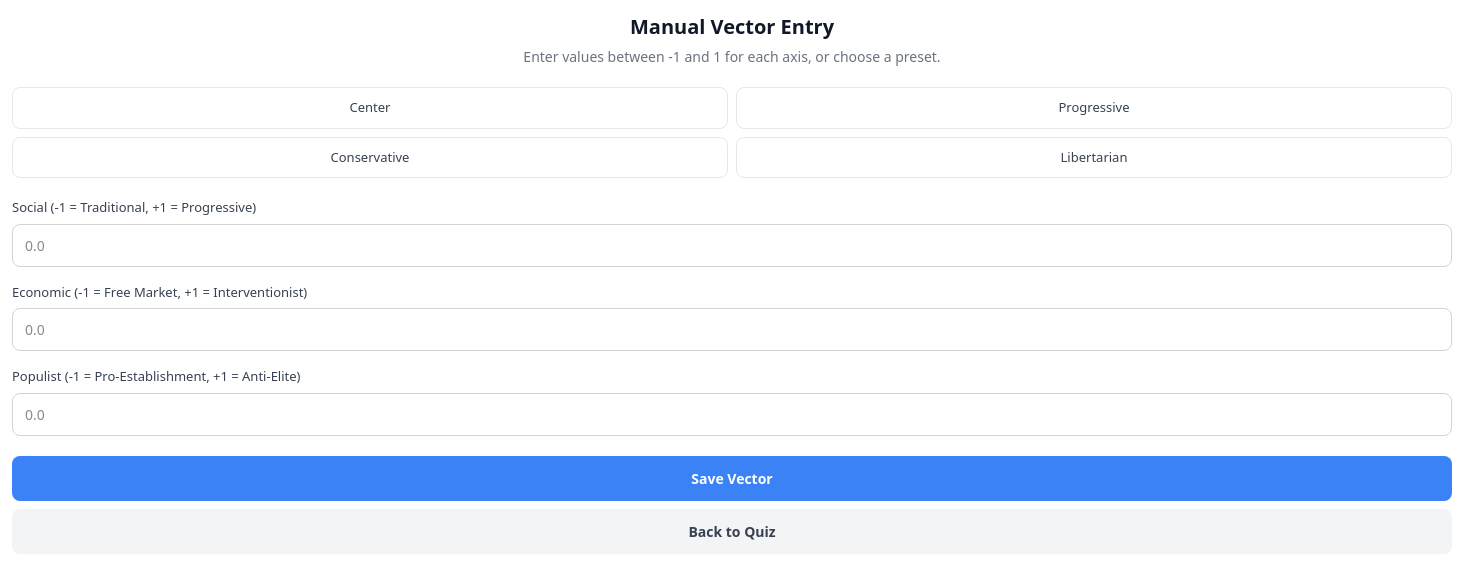
ManualEntry › fills inputs with progressive preset
Click the button with test id "preset-progressive". click: point(1094, 108)
box: [736,87,1452,128]
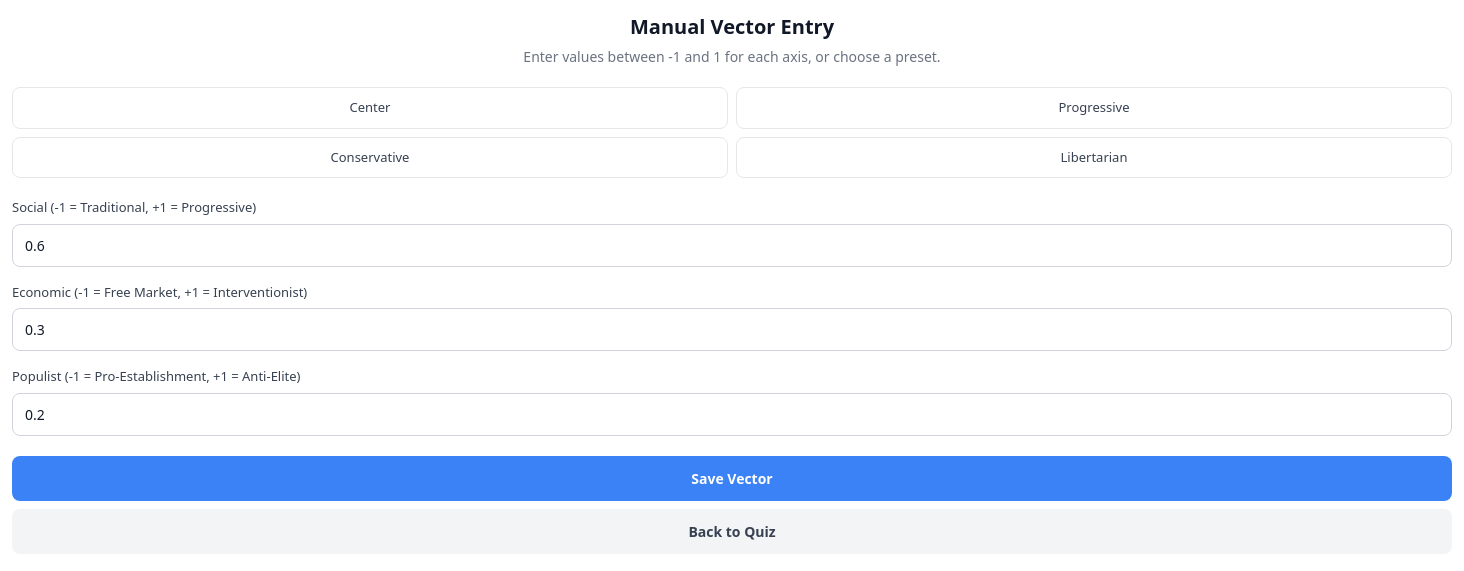
Now the number field with test id "manual-social-input" holds "0.6", box [12,224,1452,266]
Now the number field with test id "manual-economic-input" holds "0.3", box [12,308,1452,351]
Now the number field with test id "manual-populist-input" holds "0.2", box [12,392,1452,436]
